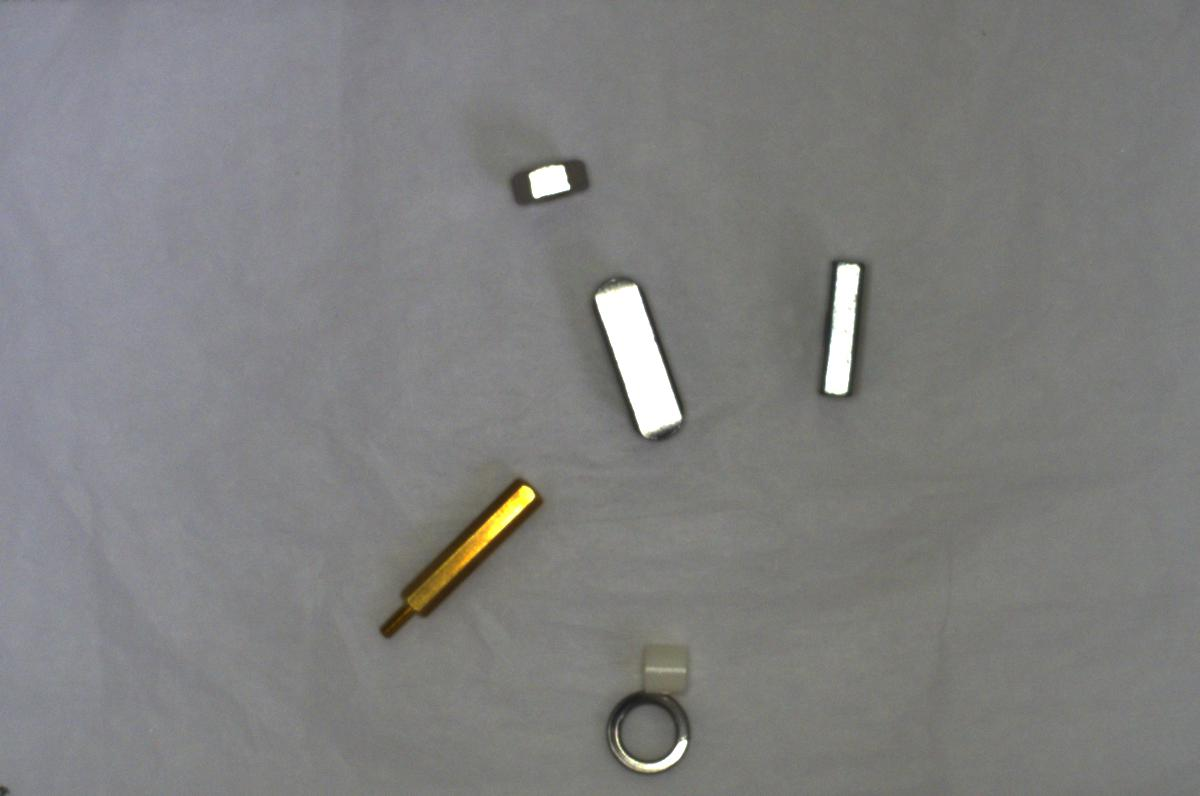Hexagon nut: (506, 148, 593, 219)
Hexagon pillar: (368, 465, 544, 636)
Keybar: (591, 267, 686, 446)
Plastic cushion pillar: (625, 630, 698, 706)
Rectangular nut: (805, 256, 872, 406)
Spring washer: (594, 689, 701, 780)
